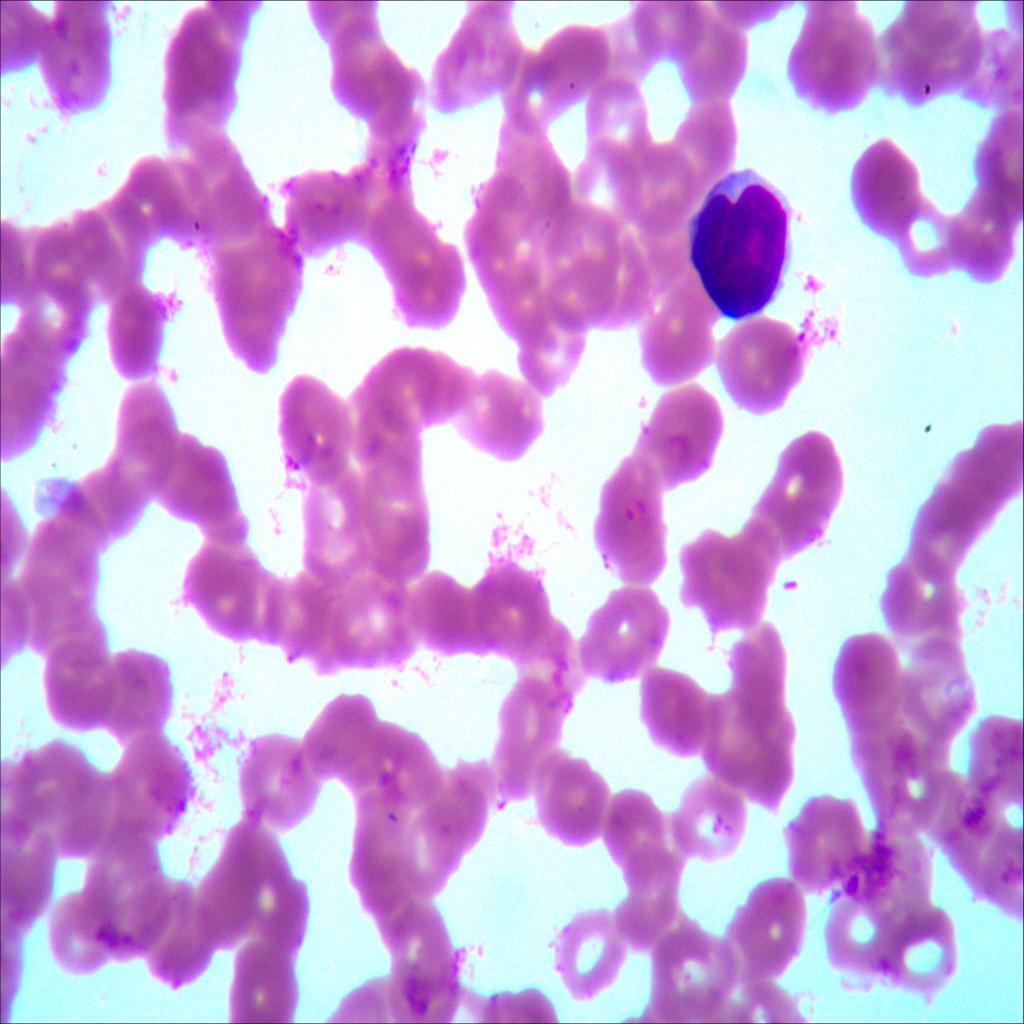Limfoblast: (686, 158, 790, 323)
